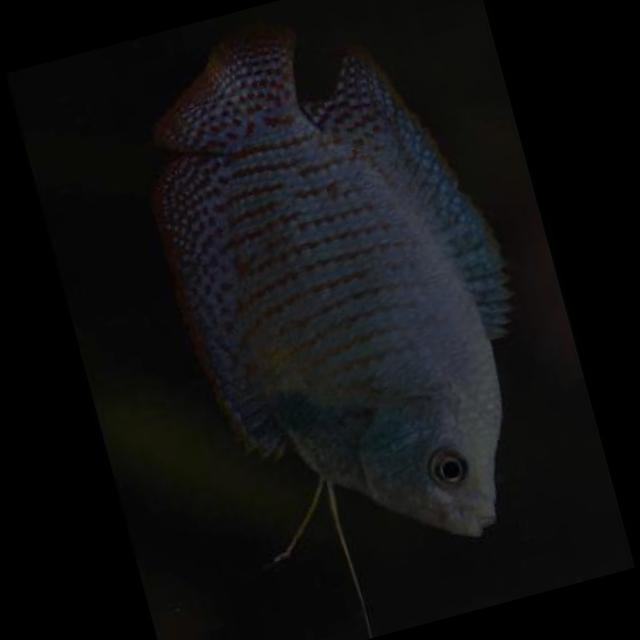Gourami: (117, 0, 569, 596)
